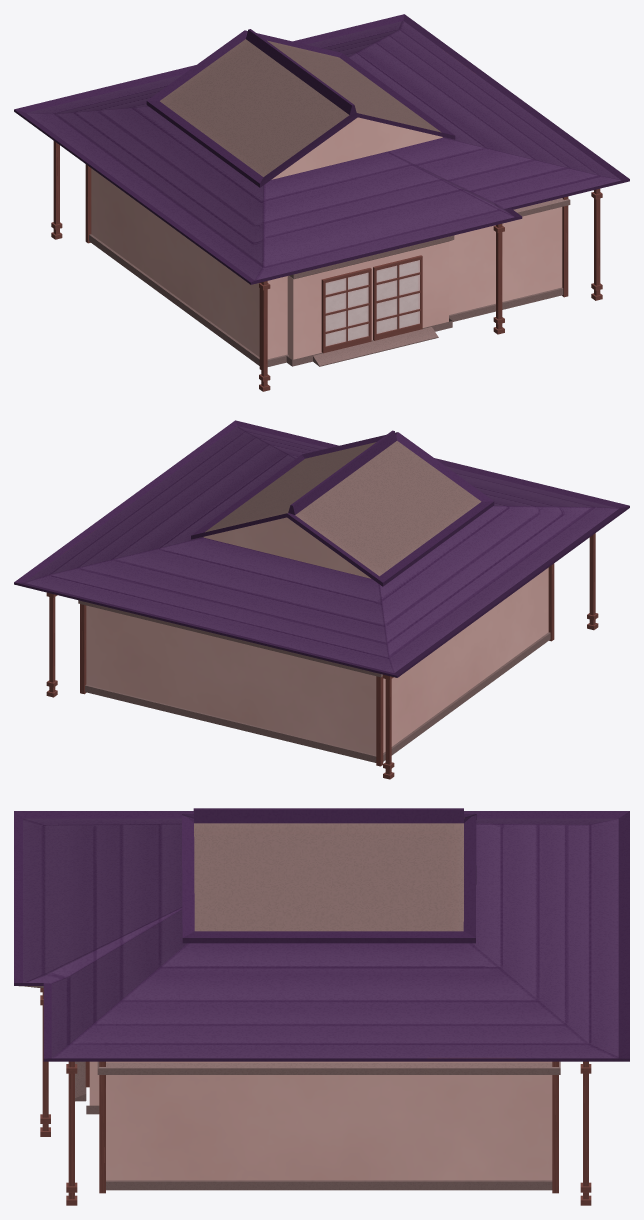
Rendered from House_3_Purple.fbx.
3 renders of one model, top to bottom at view 1: azimuth 30°, elevation 25°; view 2: azimuth 150°, elevation 25°; view 3: azimuth 270°, elevation 25°, orthographic. The views are drawn at different scales.
Visible parts, largest first — view 1: House V3; view 2: House V3; view 3: House V3.
Part boxes in pixels (x1=…): House V3: x1=14, y1=14, x2=629, y2=391; House V3: x1=14, y1=420, x2=629, y2=779; House V3: x1=14, y1=808, x2=629, y2=1205.
Size of the model in its own units: 1185 by 604 by 1245.
1 material, 1 textured.
